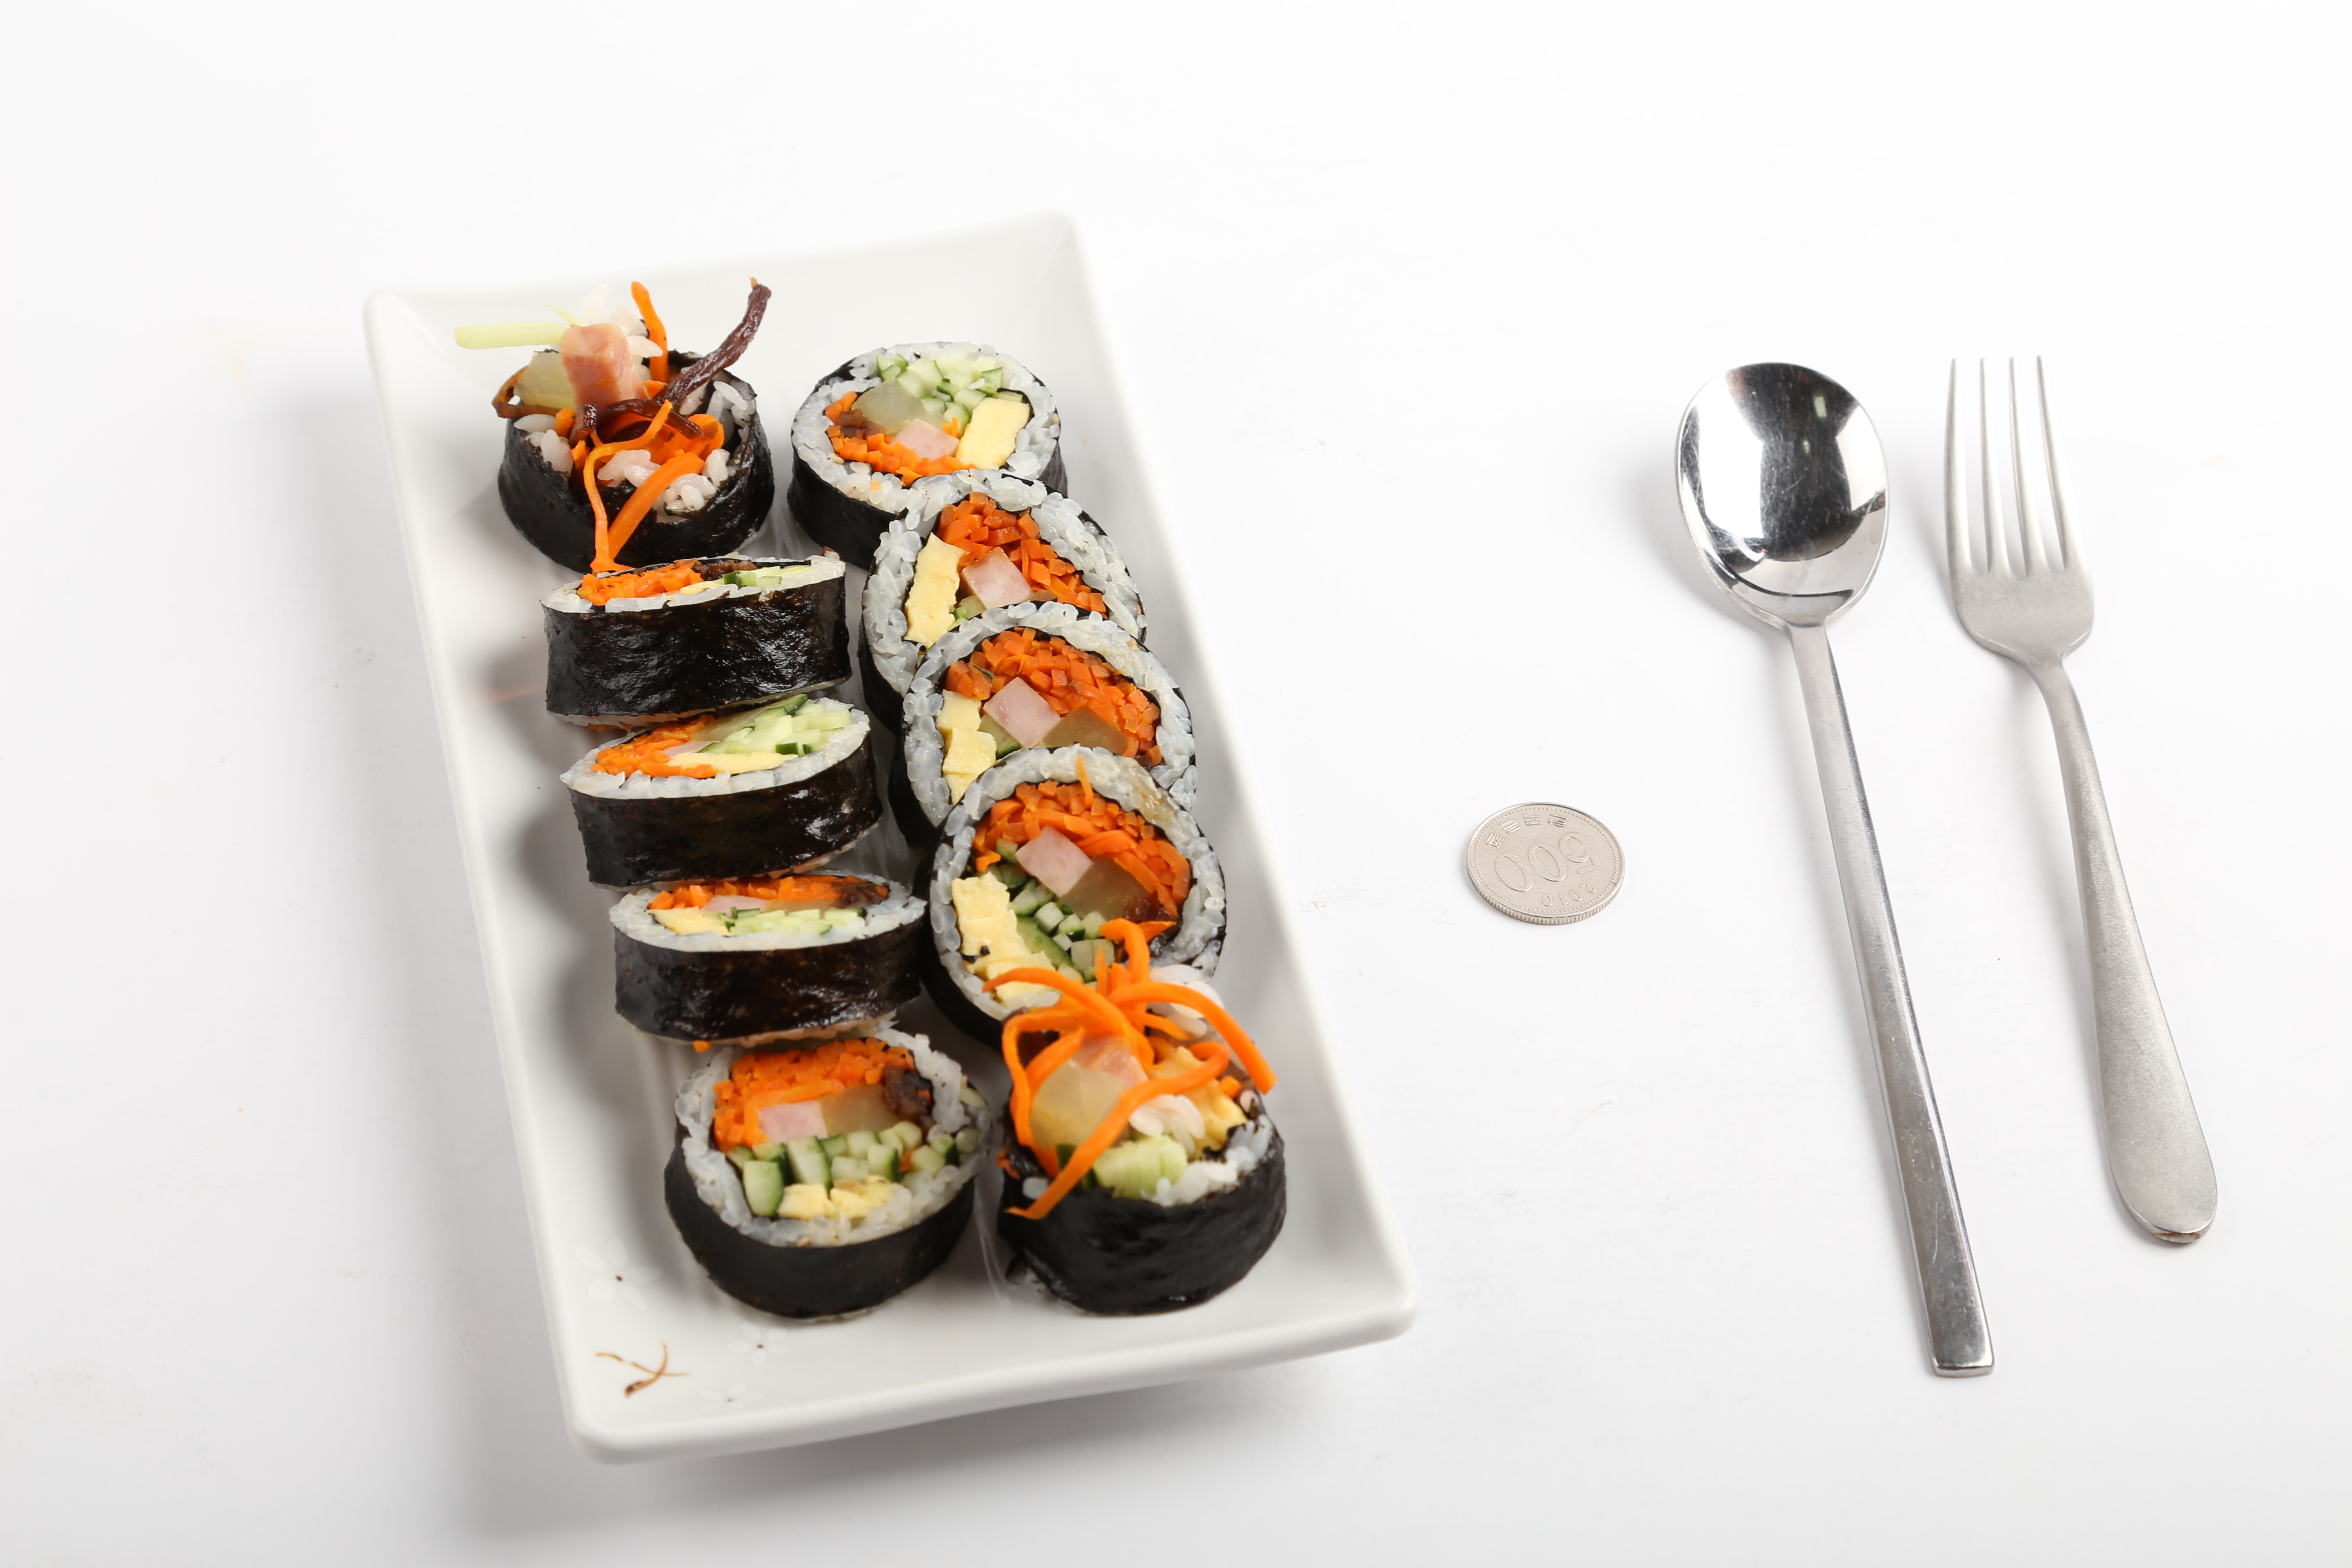dish: (369, 213, 1410, 1461)
ref_coin: (1459, 794, 1627, 929)
ref_fork: (1941, 353, 2098, 724)
ref_spoon: (1666, 355, 1892, 677)
김밥: (493, 320, 1290, 1321)
